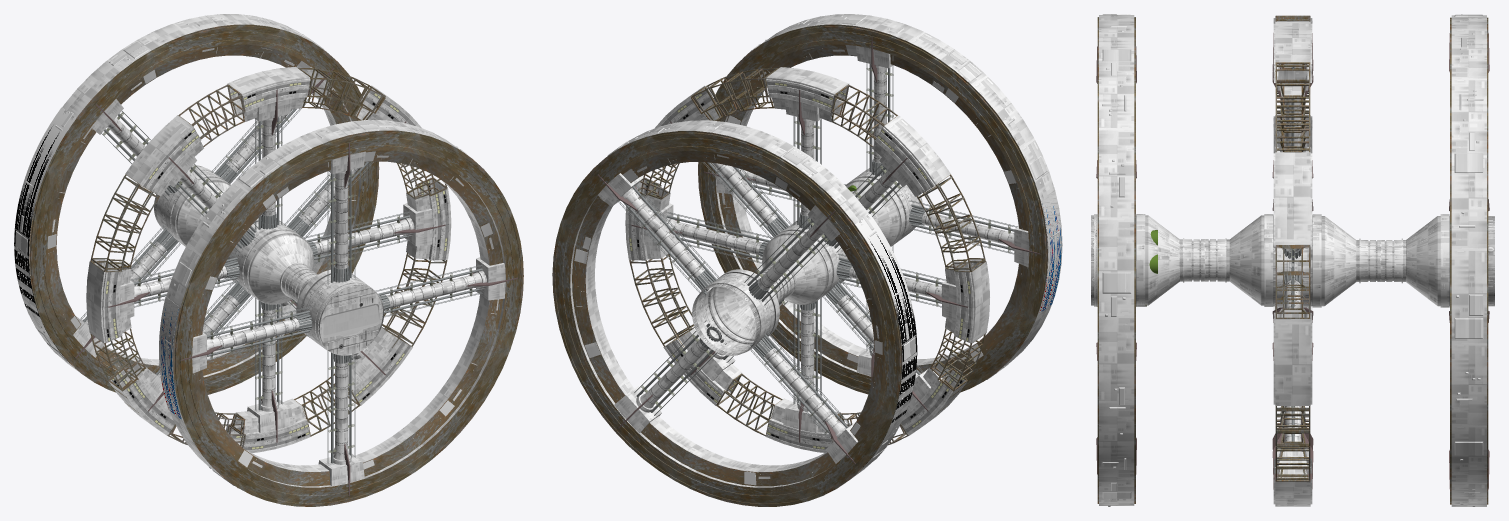
Rendered from FIGR.FBX.
The picture shows the model from 3 angles, left to right: view 1: azimuth 30°, elevation 25°; view 2: azimuth 150°, elevation 25°; view 3: azimuth 270°, elevation 25°; orthographic projection. The views are drawn at different scales.
Parts seen in each view (by area): view 1: Wheel01, Wheel004, Wheel02, Cables01, Wheel003, Wheel Gird01, Hub, Wheel Gird002, Cables002, Shape002, Shape003, Spoke03 (+17 smaller); view 2: Wheel004, Wheel01, Wheel02, Hub001, Wheel003, Cables002, Wheel Gird002, Wheel Gird01, Cables01, Shape003, Hub, Spoke008 (+20 smaller); view 3: Wheel004, Wheel01, Hub001, Hub, Wheel02, Wheel003, Wheel Gird01, Wheel Gird002, Spoke Supp01, Spoke Supp002, Blocks005, Spoke01.
Boxes of the visible parts, x1,y1,x2,y2 form: Wheel01: [163, 120, 523, 506]; Wheel004: [14, 14, 379, 394]; Wheel02: [86, 66, 451, 452]; Cables01: [130, 116, 482, 463]; Wheel003: [108, 85, 421, 435]; Wheel Gird01: [90, 68, 447, 447]; Hub: [228, 221, 384, 355]; Wheel Gird002: [90, 67, 447, 446]; Cables002: [80, 94, 373, 375]; Shape002: [315, 283, 382, 354]; Shape003: [14, 107, 76, 367]; Spoke03: [261, 304, 351, 464]; Wheel004: [552, 120, 916, 506]; Wheel01: [698, 14, 1062, 394]; Wheel02: [625, 67, 989, 452]; Hub001: [692, 225, 833, 355]; Wheel003: [655, 86, 967, 435]; Cables002: [618, 162, 923, 442]; Wheel Gird002: [629, 68, 985, 445]; Wheel Gird01: [630, 68, 985, 443]; Cables01: [666, 63, 1017, 405]; Shape003: [855, 214, 917, 471]; Hub: [781, 168, 922, 295]; Spoke008: [622, 162, 783, 291]; Wheel004: [1450, 14, 1488, 506]; Wheel01: [1097, 14, 1135, 506]; Hub001: [1273, 214, 1494, 307]; Hub: [1091, 214, 1312, 306]; Wheel02: [1273, 21, 1312, 405]; Wheel003: [1273, 16, 1312, 506]; Wheel Gird01: [1275, 15, 1310, 479]; Wheel Gird002: [1275, 16, 1310, 481]; Spoke Supp01: [1096, 46, 1313, 474]; Spoke Supp002: [1272, 33, 1489, 489]; Blocks005: [1275, 448, 1310, 477]; Spoke01: [1284, 99, 1300, 148].
Size of the model in its own units: 4991 by 4987 by 4086.
Materials: 16 (12 with a texture image).
